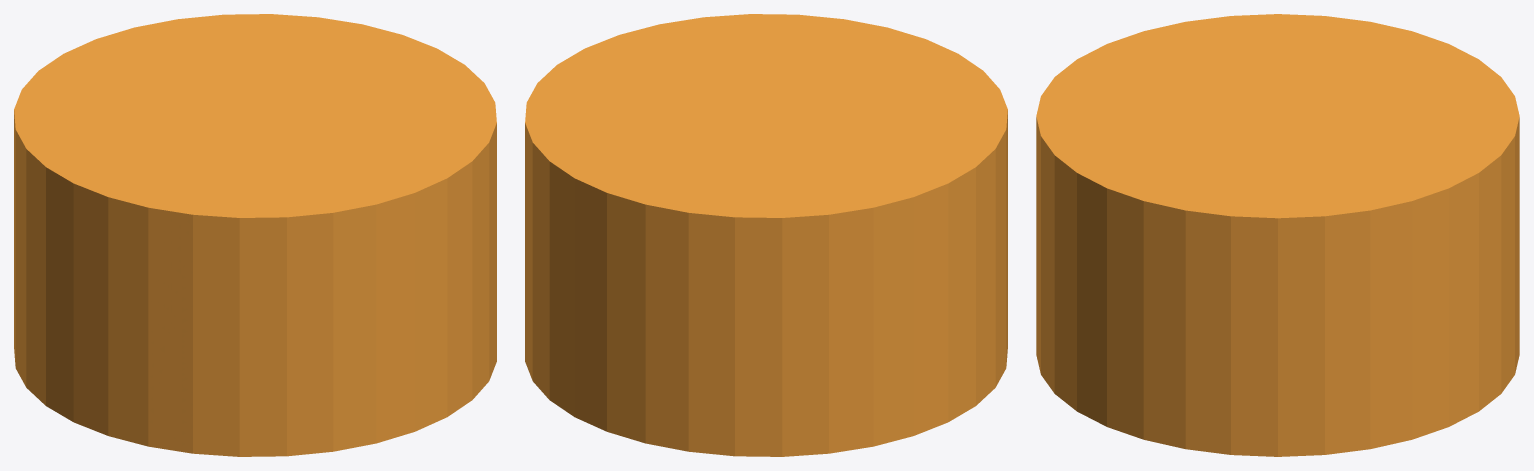
3 views of the same model, side by side, from view 1: azimuth 30°, elevation 25°; view 2: azimuth 150°, elevation 25°; view 3: azimuth 270°, elevation 25° (orthographic).
Parts seen in each view (by area): view 1: Cylinder; view 2: Cylinder; view 3: Cylinder.
Boxes of the visible parts, x1,y1,x2,y2 form: Cylinder: (14,14,496,456); Cylinder: (525,14,1007,456); Cylinder: (1036,14,1519,456).
Size of the model in its own units: 7.83 by 4.26 by 7.83.
